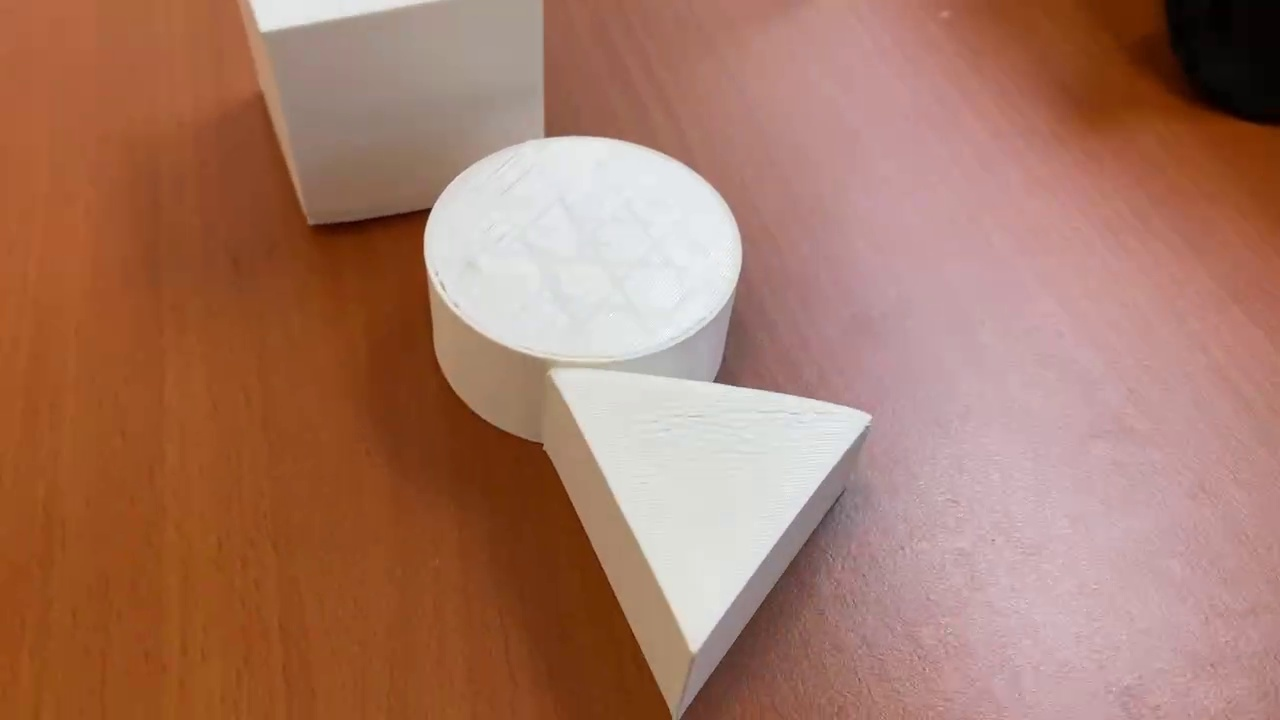Cylinder_short: (425, 131, 744, 444)
Triangle_short: (541, 359, 873, 720)
